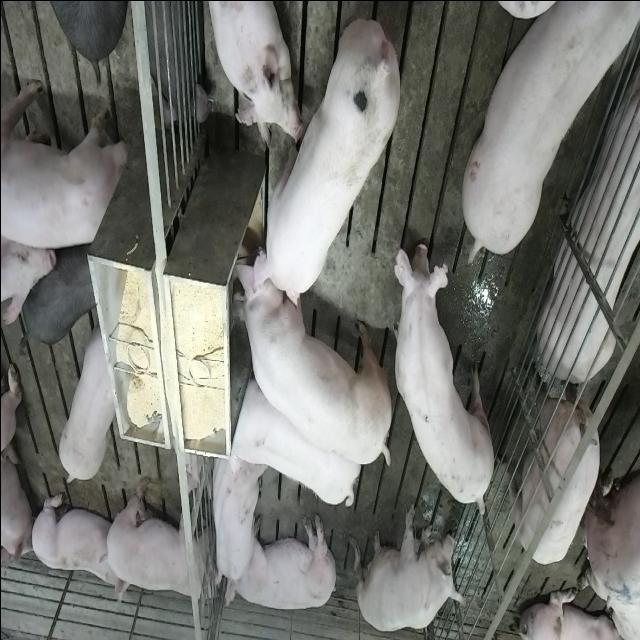Feeding: (244, 15, 402, 308), (223, 243, 390, 468)
Lateral_lying: (222, 512, 339, 612)
Sitting: (354, 502, 466, 632)
Standing: (458, 0, 634, 257), (394, 224, 496, 512), (1, 76, 130, 254), (508, 363, 608, 565), (230, 378, 360, 512), (103, 472, 218, 610), (53, 323, 116, 488), (22, 248, 98, 348)
Sternal_lying: (539, 40, 640, 380), (202, 0, 298, 146), (28, 486, 122, 604), (207, 449, 263, 589)
